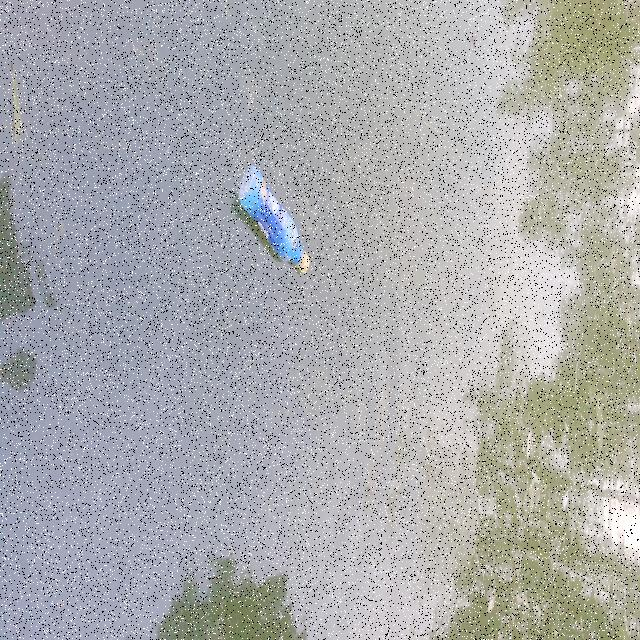Bottle: (234, 161, 313, 277)
